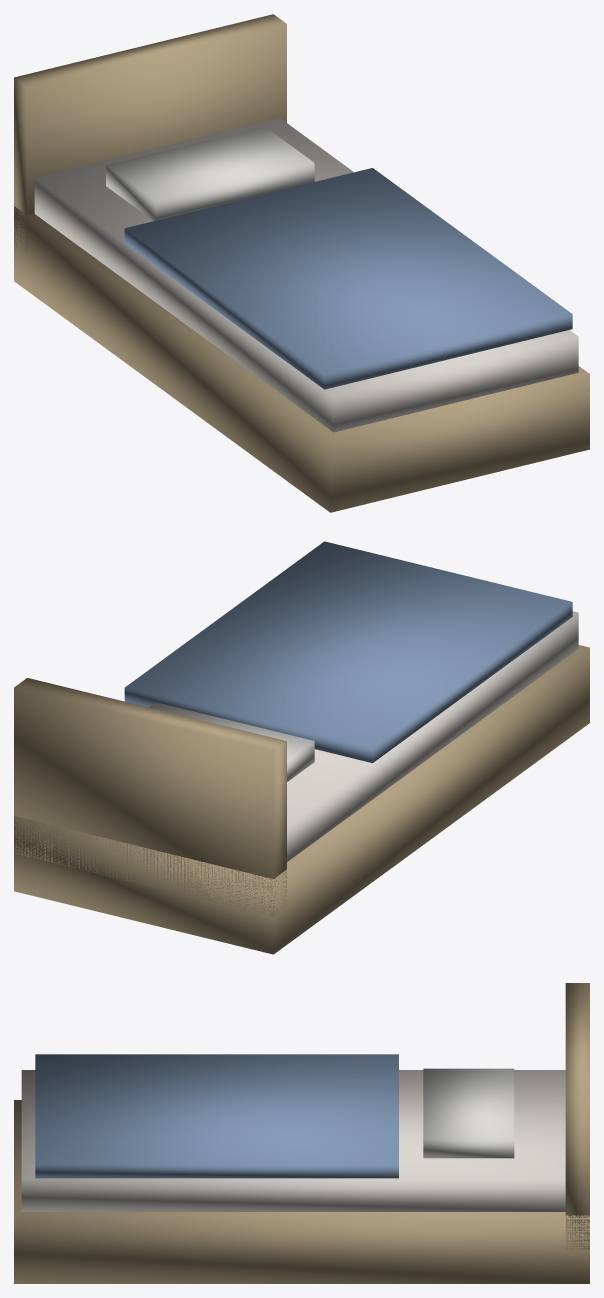
The model's file is furn_bed.glb.
The picture shows the model from 3 angles, top to bottom: view 1: azimuth 30°, elevation 25°; view 2: azimuth 150°, elevation 25°; view 3: azimuth 270°, elevation 25°; orthographic projection. The views are drawn at different scales.
Parts seen in each view (by area): view 1: blanket, frame, headboard, mattress, pillow; view 2: blanket, frame, headboard, mattress, pillow; view 3: blanket, frame, mattress, pillow, headboard.
Part boxes in pixels (x1=…): blanket: x1=124, y1=168, x2=572, y2=389; frame: x1=14, y1=206, x2=589, y2=512; headboard: x1=14, y1=14, x2=286, y2=252; mattress: x1=34, y1=117, x2=578, y2=432; pillow: x1=106, y1=126, x2=314, y2=220; blanket: x1=124, y1=541, x2=572, y2=763; frame: x1=14, y1=645, x2=589, y2=954; headboard: x1=14, y1=678, x2=286, y2=916; mattress: x1=287, y1=611, x2=578, y2=861; pillow: x1=149, y1=702, x2=314, y2=781; blanket: x1=35, y1=1054, x2=398, y2=1178; frame: x1=14, y1=1100, x2=589, y2=1283; mattress: x1=21, y1=1070, x2=565, y2=1211; pillow: x1=423, y1=1068, x2=514, y2=1158; headboard: x1=565, y1=983, x2=589, y2=1249.
Size of the model in its own units: 0.9 by 0.675 by 1.9.
